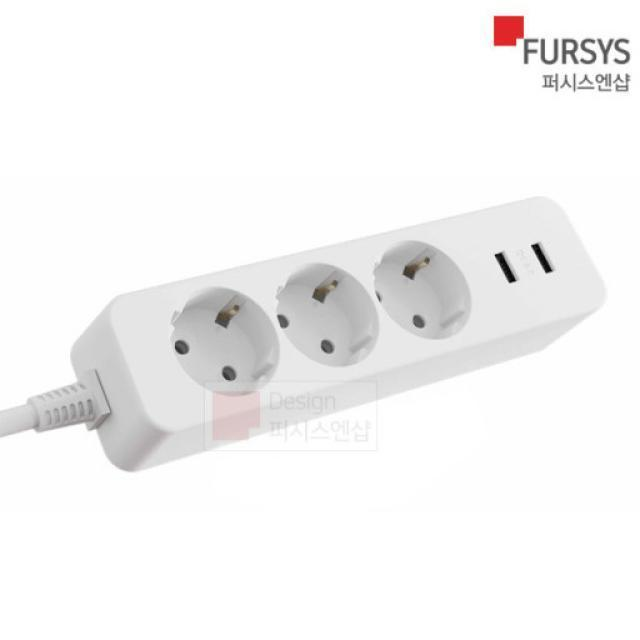typeb: (49, 166, 603, 481)
